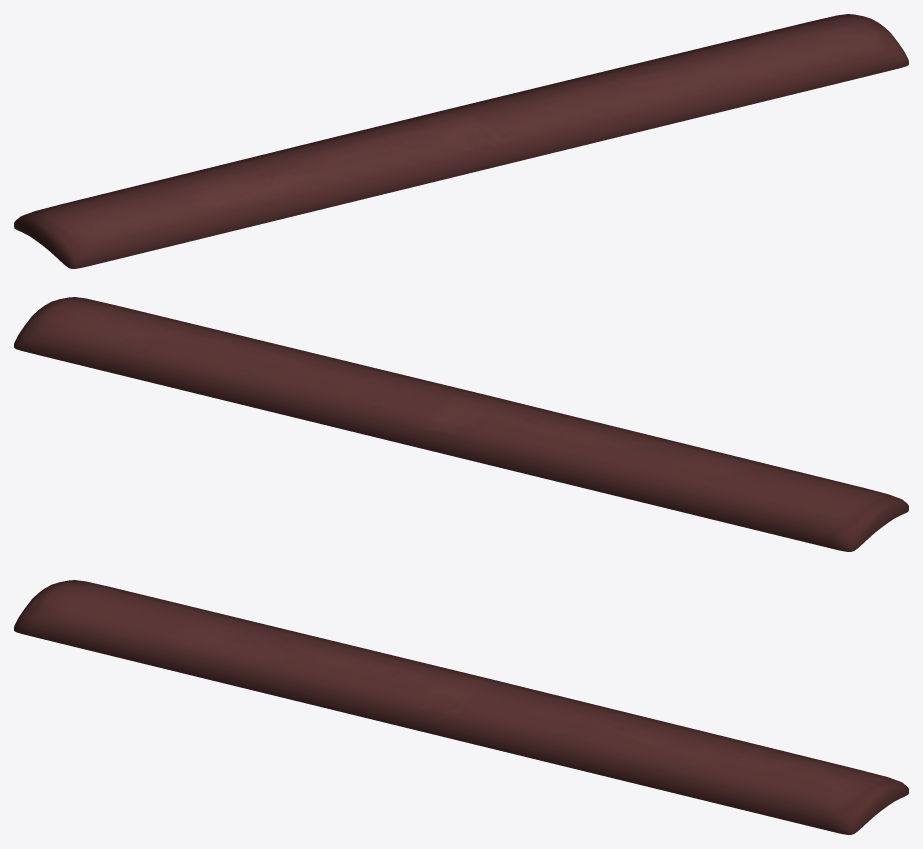
Rendered from SM_Main_Roof.fbx.
3 views of the same model, one above another, from view 1: azimuth 30°, elevation 25°; view 2: azimuth 150°, elevation 25°; view 3: azimuth 330°, elevation 25° (orthographic).
Parts seen in each view (by area): view 1: SM_Main_Roof; view 2: SM_Main_Roof; view 3: SM_Main_Roof.
Boxes of the visible parts, x1,y1,x2,y2 form: SM_Main_Roof: (14,14,908,268); SM_Main_Roof: (14,297,908,551); SM_Main_Roof: (14,580,908,834).
Size of the model in its own units: 3017 by 375 by 76.8.
Materials: 1 (1 with a texture image).
